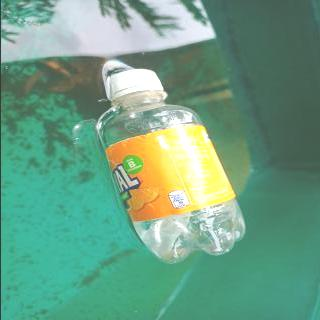bottle: (91, 65, 248, 268)
